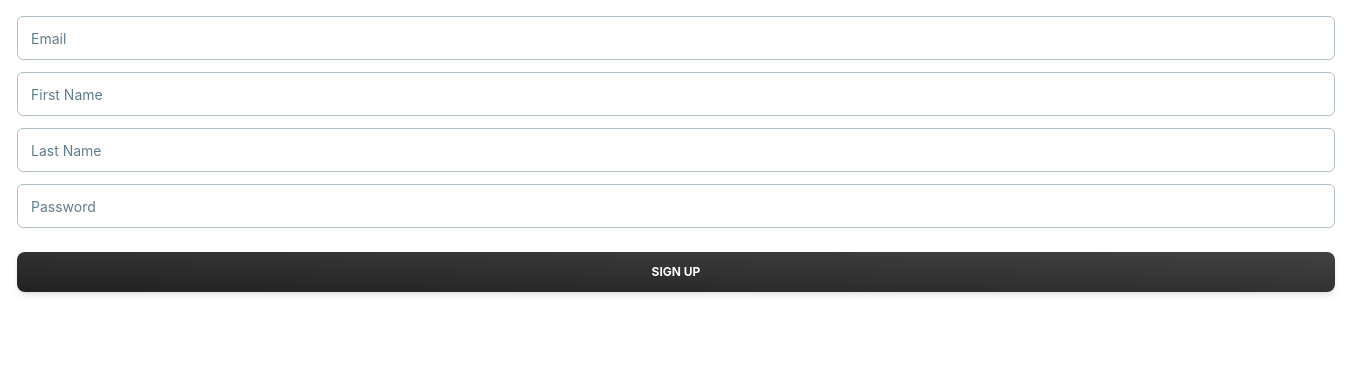
Scenario: SignUp component › displays form errors with invalid data
The image size is (1353, 385).
Click the button "Sign Up" at (676,272), box top-left (17, 252), bottom-right (1335, 292)
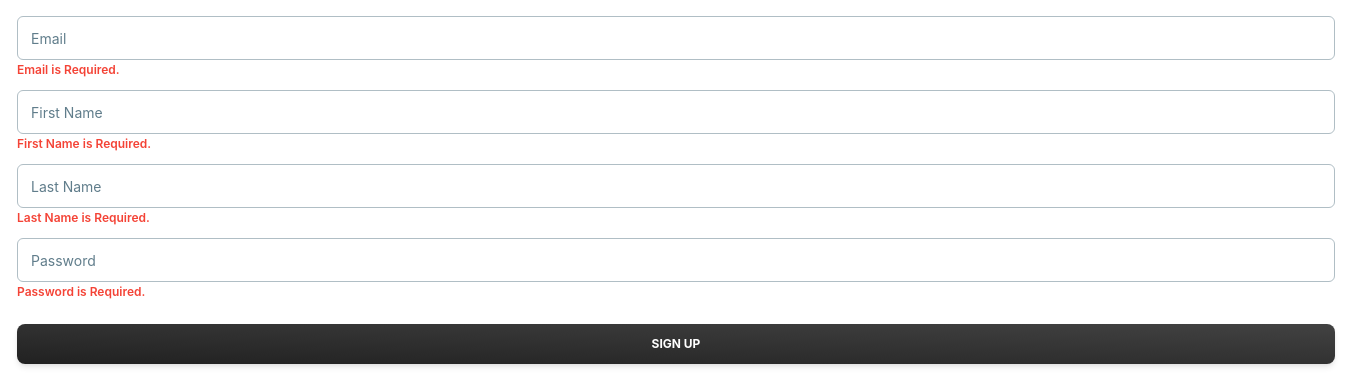
Now the text "Email is Required." is shown, box top-left (17, 62), bottom-right (120, 77)
Now the text "First Name is Required." is shown, box top-left (17, 136), bottom-right (151, 151)
Now the text "Last Name is Required." is shown, box top-left (17, 210), bottom-right (150, 225)
